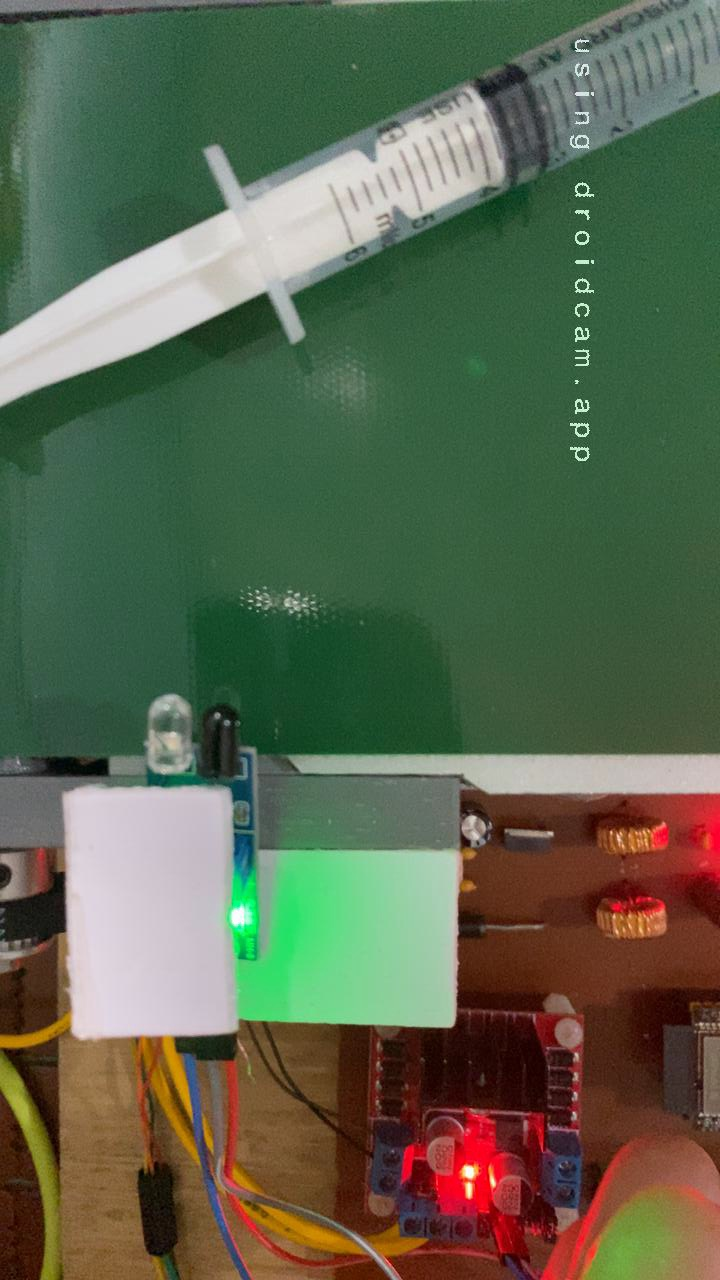syringe: (0, 2, 720, 415)
